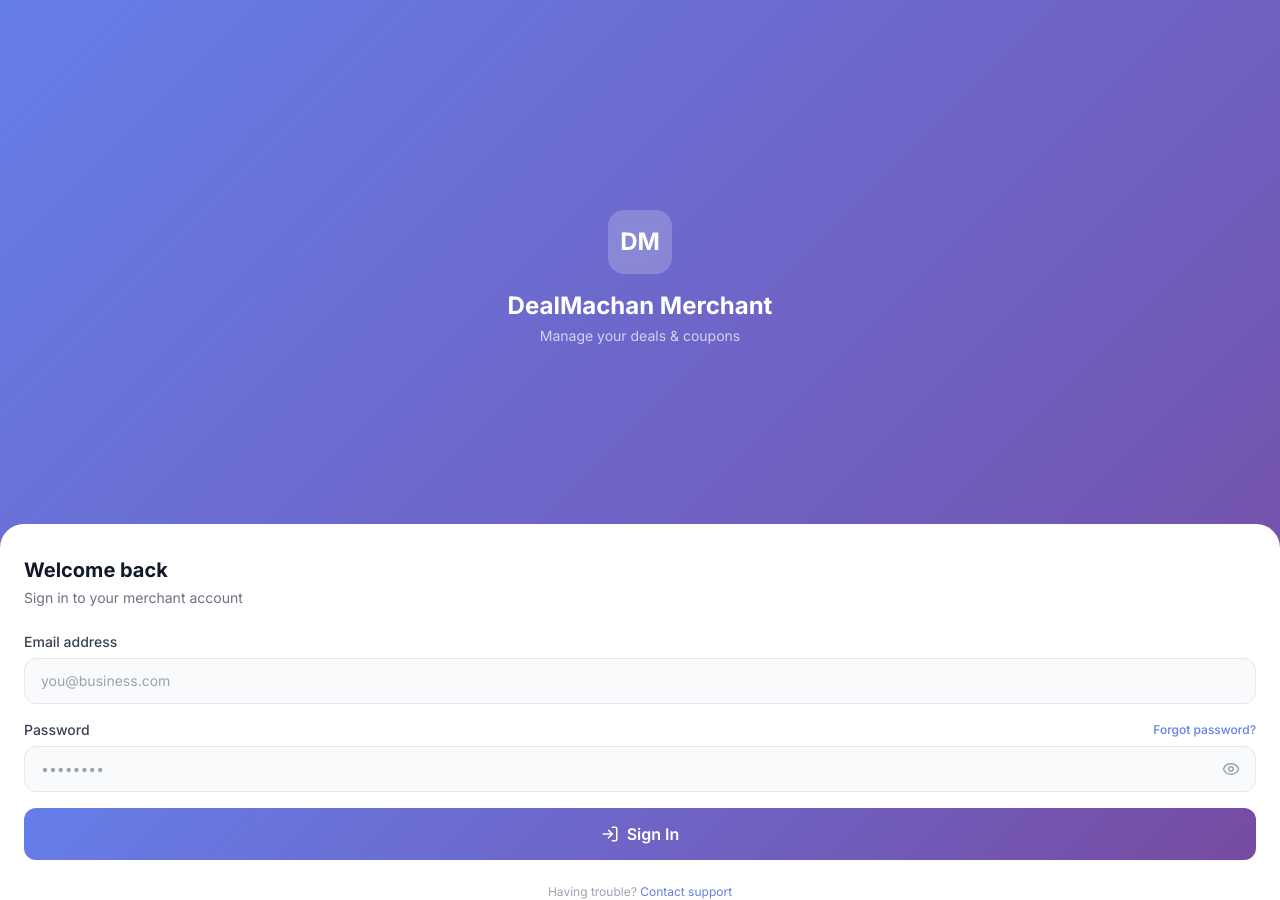
Test case: LoginPage — form validation › shows email validation error when submitting empty form
Click the button "Sign In": (640, 834) x1=24 y1=808 x2=1256 y2=860
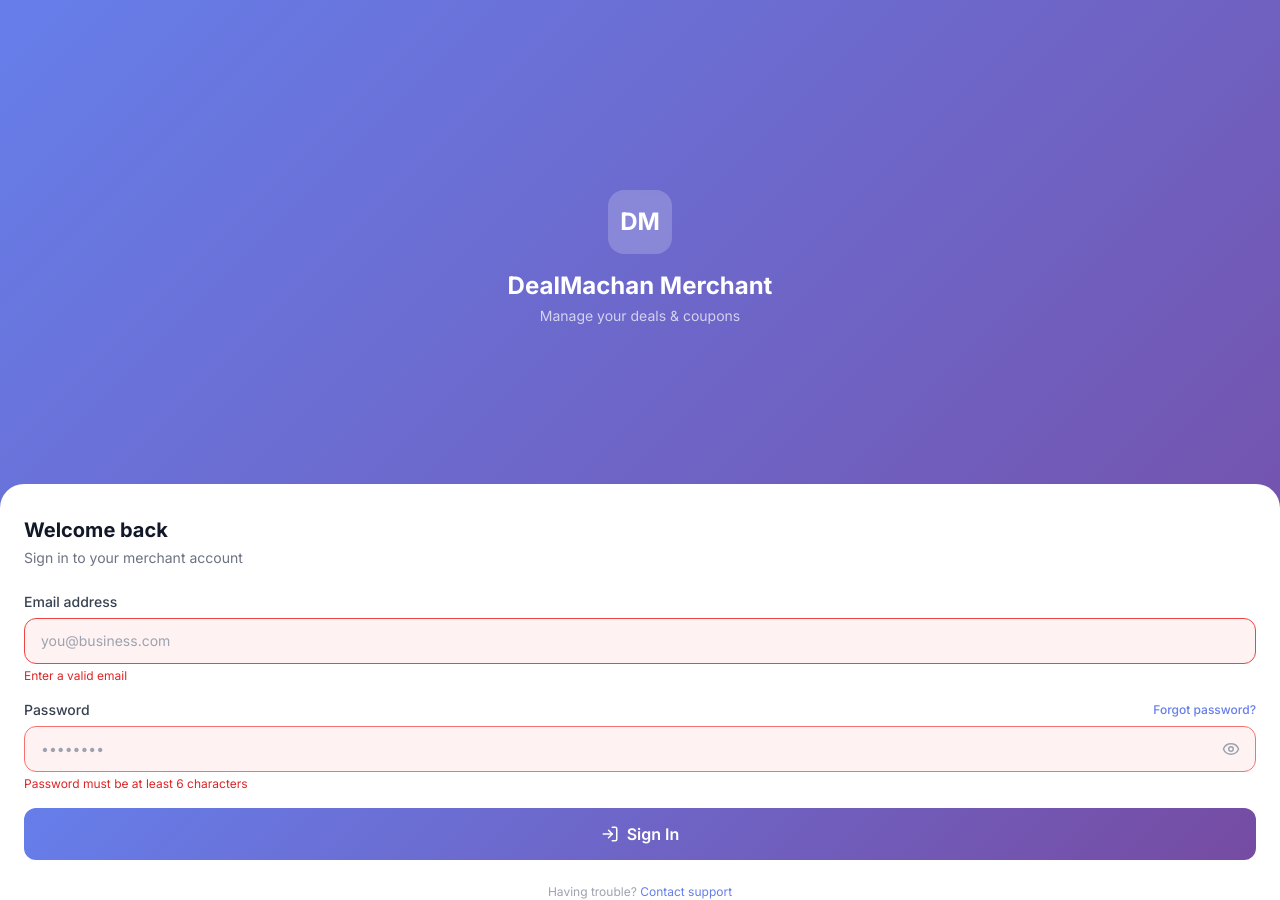
Check: the text "Enter a valid email" is shown, box x1=24 y1=668 x2=127 y2=683
